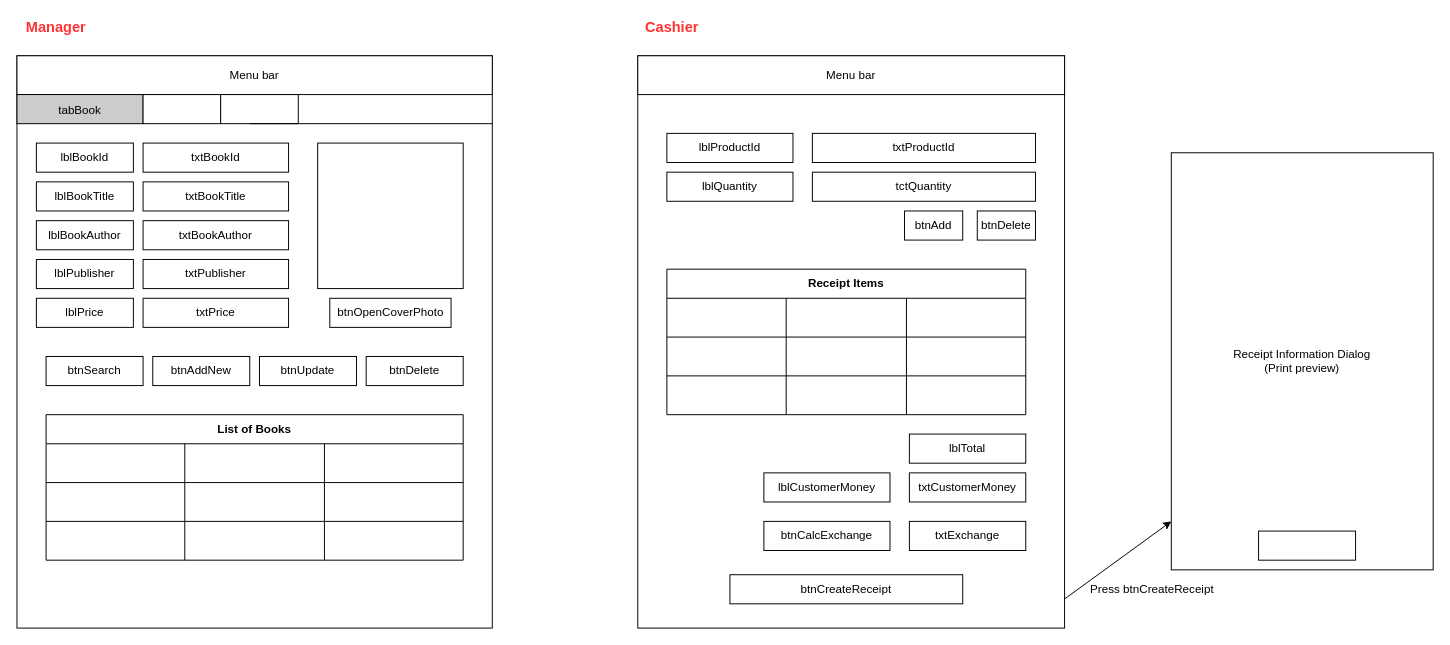
This 1450x645 diagram has some shape labels left out. Here are the shapes that lost their labels. From the top down, the centre of each, then its label:
At (181,109): "tabReceipt".
At (259,109): "tabStatistics".
At (390,215): "lblCoverPhoto".
At (1307,545): "Save as PDF".
